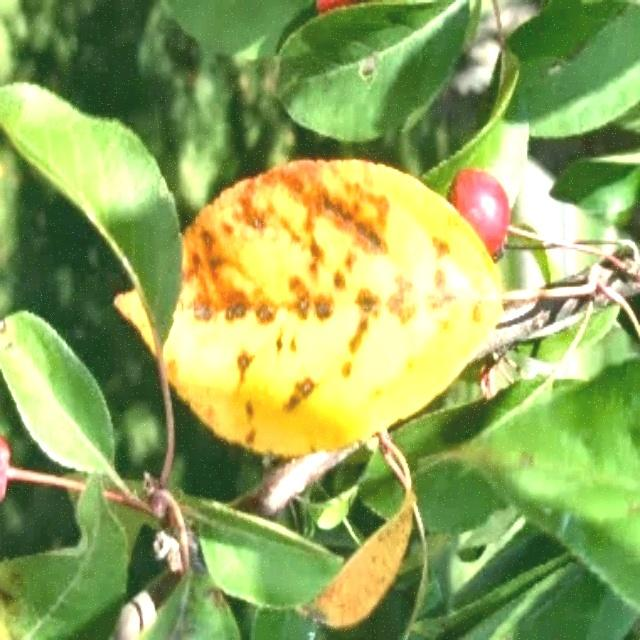leaf_spot: (145, 186, 477, 472)
